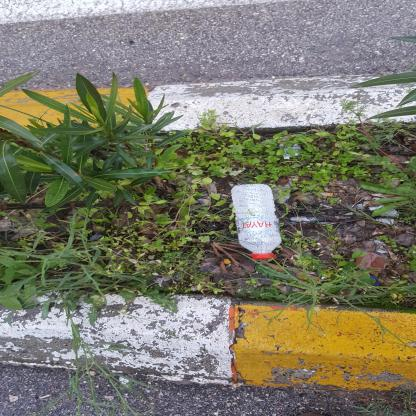plastik: (185, 135, 261, 187)
